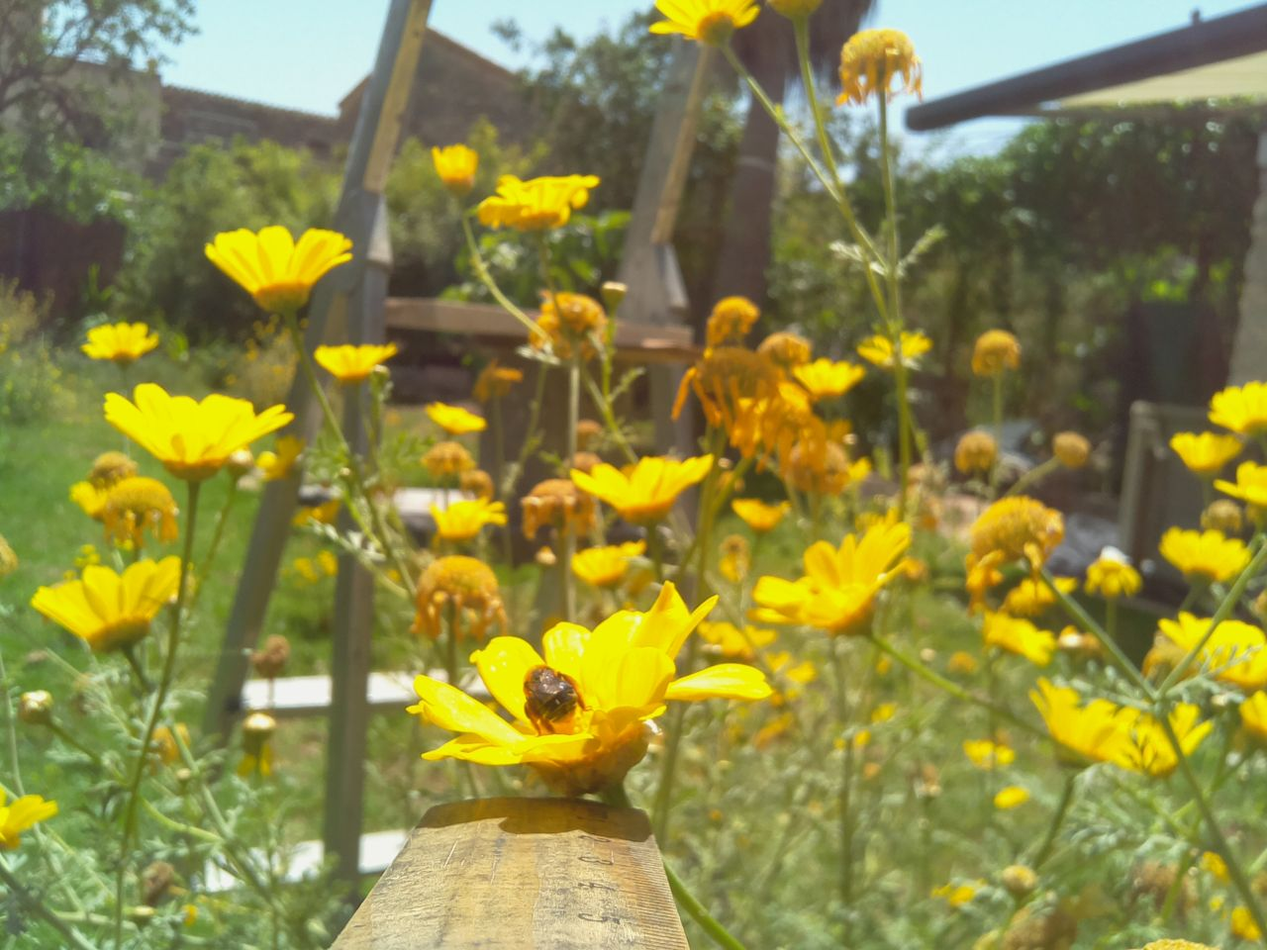Osmia: (514, 652, 602, 738)
